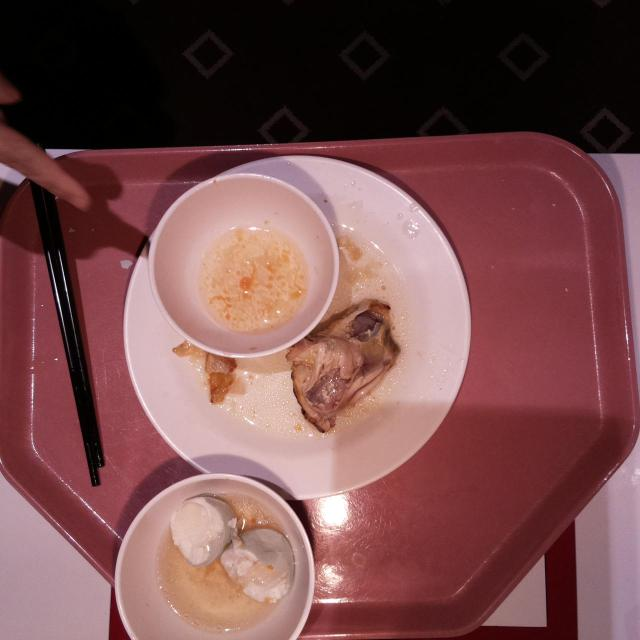Bone: (290, 298, 400, 432)
Egg-shell: (219, 530, 295, 604), (168, 494, 234, 570)
